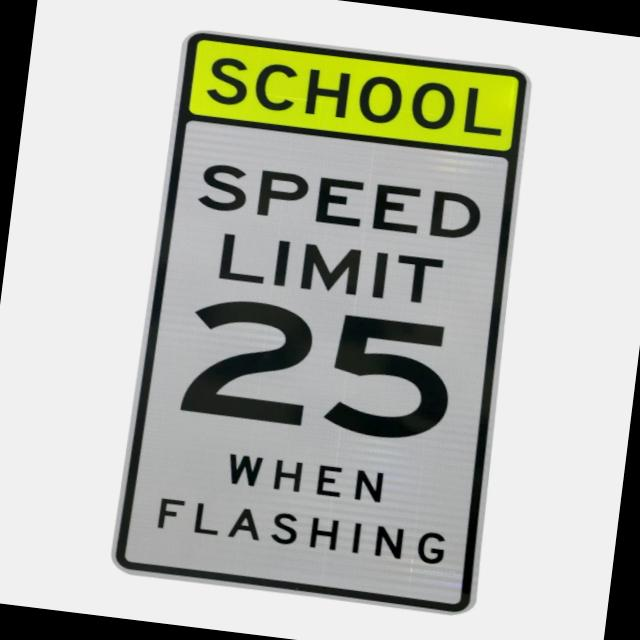Speed Limit Signs: (111, 110, 526, 615)
